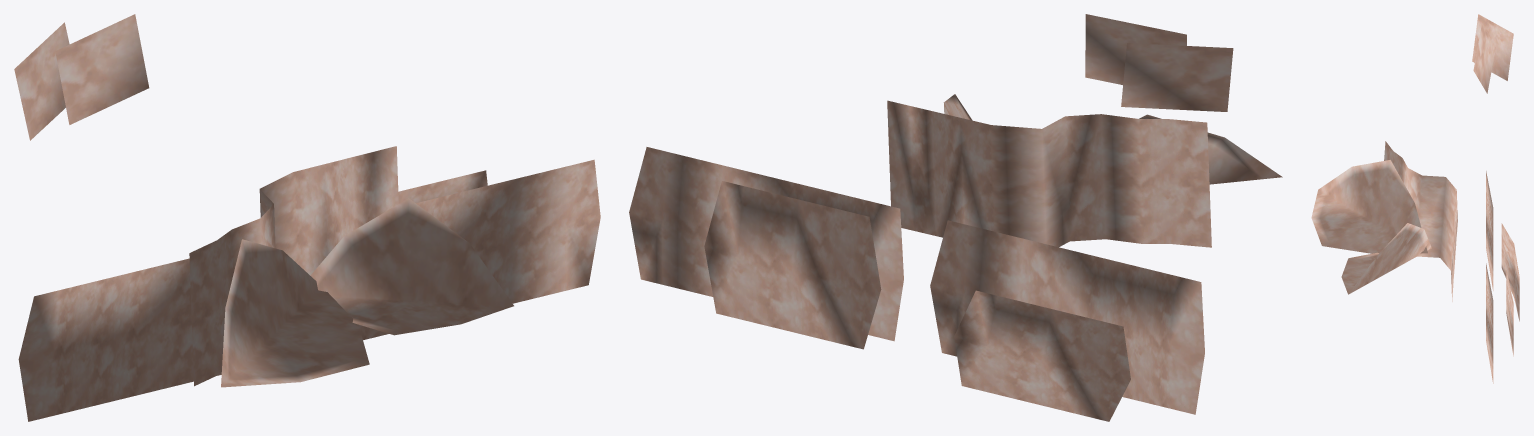
File: stg210_MotCloud_01.obj
3 views of the same model, side by side, from view 1: azimuth 30°, elevation 25°; view 2: azimuth 150°, elevation 25°; view 3: azimuth 270°, elevation 25° (orthographic). The views are drawn at different scales.
Visible parts, largest first — view 1: polygon4, polygon2, polygon3, polygon1, polygon0; view 2: polygon4, polygon3, polygon0, polygon1; view 3: polygon1, polygon3, polygon4, polygon2, polygon0.
Part boxes in pixels (x1,y1,x2,y2): polygon4: (18, 159, 600, 421); polygon2: (310, 198, 513, 335); polygon3: (189, 146, 398, 386); polygon1: (221, 239, 369, 387); polygon0: (14, 14, 149, 140); polygon4: (629, 147, 1204, 421); polygon3: (887, 100, 1211, 247); polygon0: (1085, 14, 1233, 111); polygon1: (1139, 114, 1282, 184); polygon1: (1311, 160, 1427, 253); polygon3: (1384, 141, 1457, 301); polygon4: (1486, 171, 1519, 383); polygon2: (1341, 223, 1431, 294); polygon0: (1472, 14, 1513, 93).
Bounding box in the file's own units: 4259 × 2638 × 2057.
Materials: 2 (2 with a texture image).
